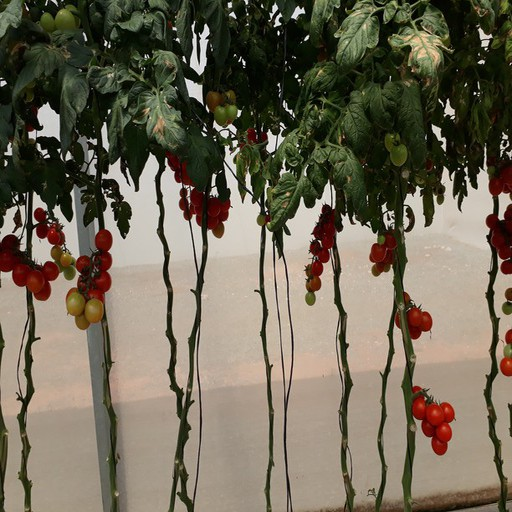green tomato bunch: (41, 5, 83, 46), (203, 87, 240, 124)
red tomato bunch: (66, 229, 112, 330), (1, 233, 59, 301), (305, 205, 342, 308), (409, 386, 455, 456), (179, 185, 230, 238), (486, 203, 512, 274), (395, 293, 433, 341), (28, 206, 67, 245), (369, 228, 398, 277), (164, 144, 199, 184), (237, 129, 271, 166), (488, 156, 511, 199)
